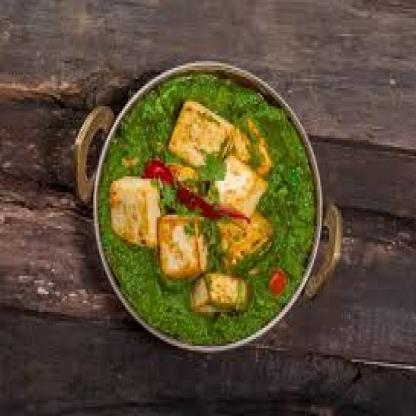palak_paneer: (98, 73, 315, 345)
